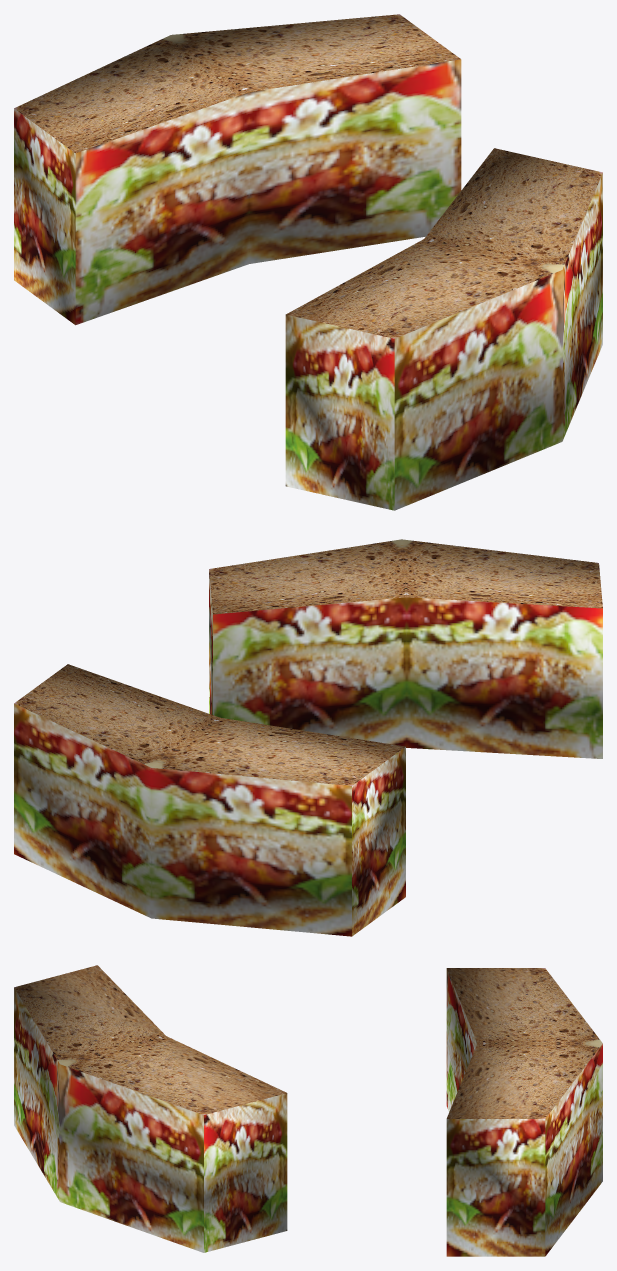
File: sandwich_HalfEaten.fbx
3 views of the same model, one above another, from view 1: azimuth 30°, elevation 25°; view 2: azimuth 150°, elevation 25°; view 3: azimuth 270°, elevation 25° (orthographic). The views are drawn at different scales.
Parts seen in each view (by area): view 1: Sandwich_HalfEaten; view 2: Sandwich_HalfEaten; view 3: Sandwich_HalfEaten.
Part boxes in pixels (<box>): Sandwich_HalfEaten: <box>14,14,602,510</box>; Sandwich_HalfEaten: <box>14,539,602,936</box>; Sandwich_HalfEaten: <box>14,965,602,1256</box>.
Bounding box in the file's own units: 204 × 85.17 × 330.
